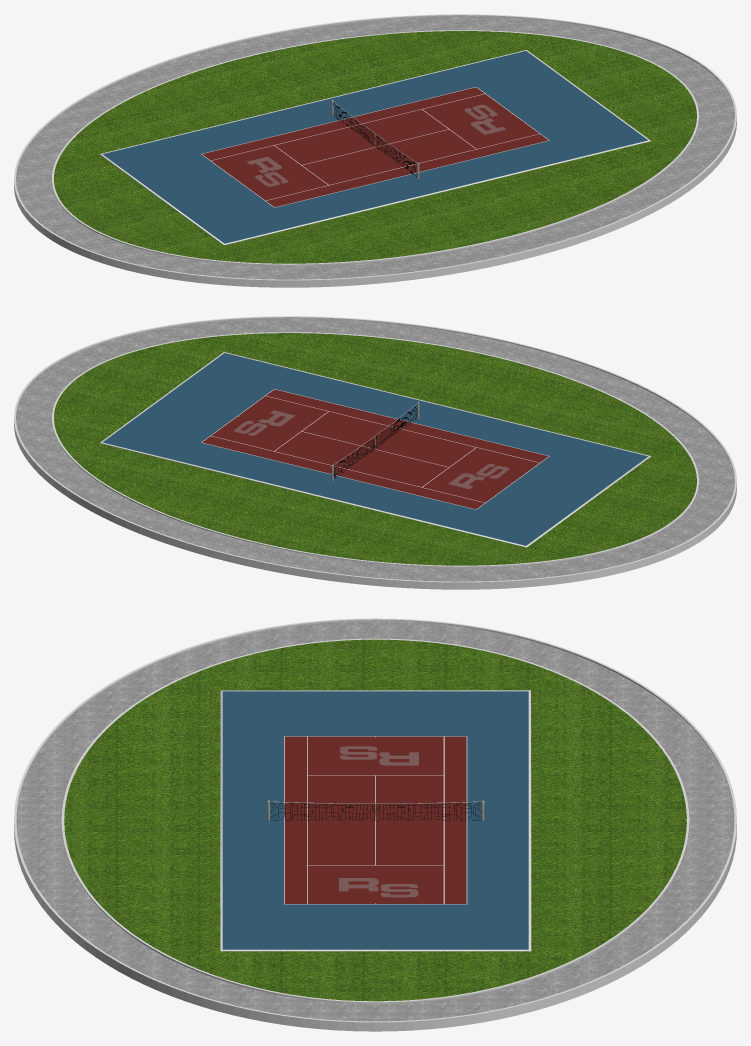
File: court.fbx
The picture shows the model from 3 angles, top to bottom: view 1: azimuth 30°, elevation 25°; view 2: azimuth 150°, elevation 25°; view 3: azimuth 270°, elevation 25°; orthographic projection. The views are drawn at different scales.
Visible parts, largest first — view 1: Rectangle025, outer, Object001, play, Ellipse001, Rectangle024, line marking, Net; view 2: Rectangle025, outer, Object001, play, Ellipse001, Rectangle024, line marking, Net; view 3: Rectangle025, outer, Object001, play, Ellipse001, Rectangle024, Net, line marking.
Part boxes in pixels (x1,y1,x2,y2): Rectangle025: (54,31,696,263); outer: (102,51,647,243); Object001: (16,16,734,279); play: (202,87,548,207); Ellipse001: (14,14,736,287); Rectangle024: (99,50,650,245); line marking: (201,87,549,207); Net: (331,100,419,179); Rectangle025: (54,333,696,565); outer: (102,353,647,545); Object001: (16,318,734,581); play: (202,389,548,509); Ellipse001: (14,316,736,589); Rectangle024: (100,352,651,547); line marking: (201,389,549,509); Net: (331,402,419,481); Rectangle025: (64,639,686,1001); outer: (222,691,528,949); Object001: (16,621,734,1021); play: (284,736,466,903); Ellipse001: (14,618,736,1031); Rectangle024: (220,690,531,951); Net: (267,800,485,820); line marking: (284,736,467,904).
Size of the model in its own units: 5717 by 188 by 4323.
9 materials, 4 textured.
